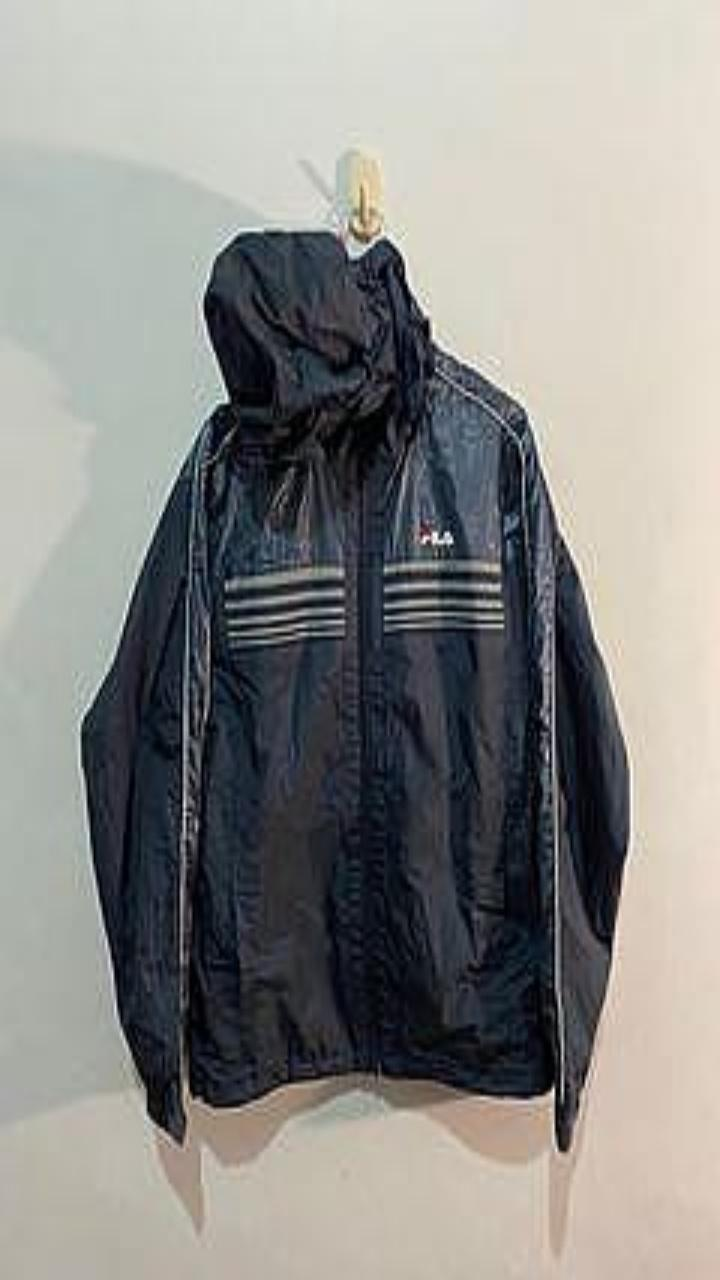Sports_Jacket: (80, 229, 629, 1151)
